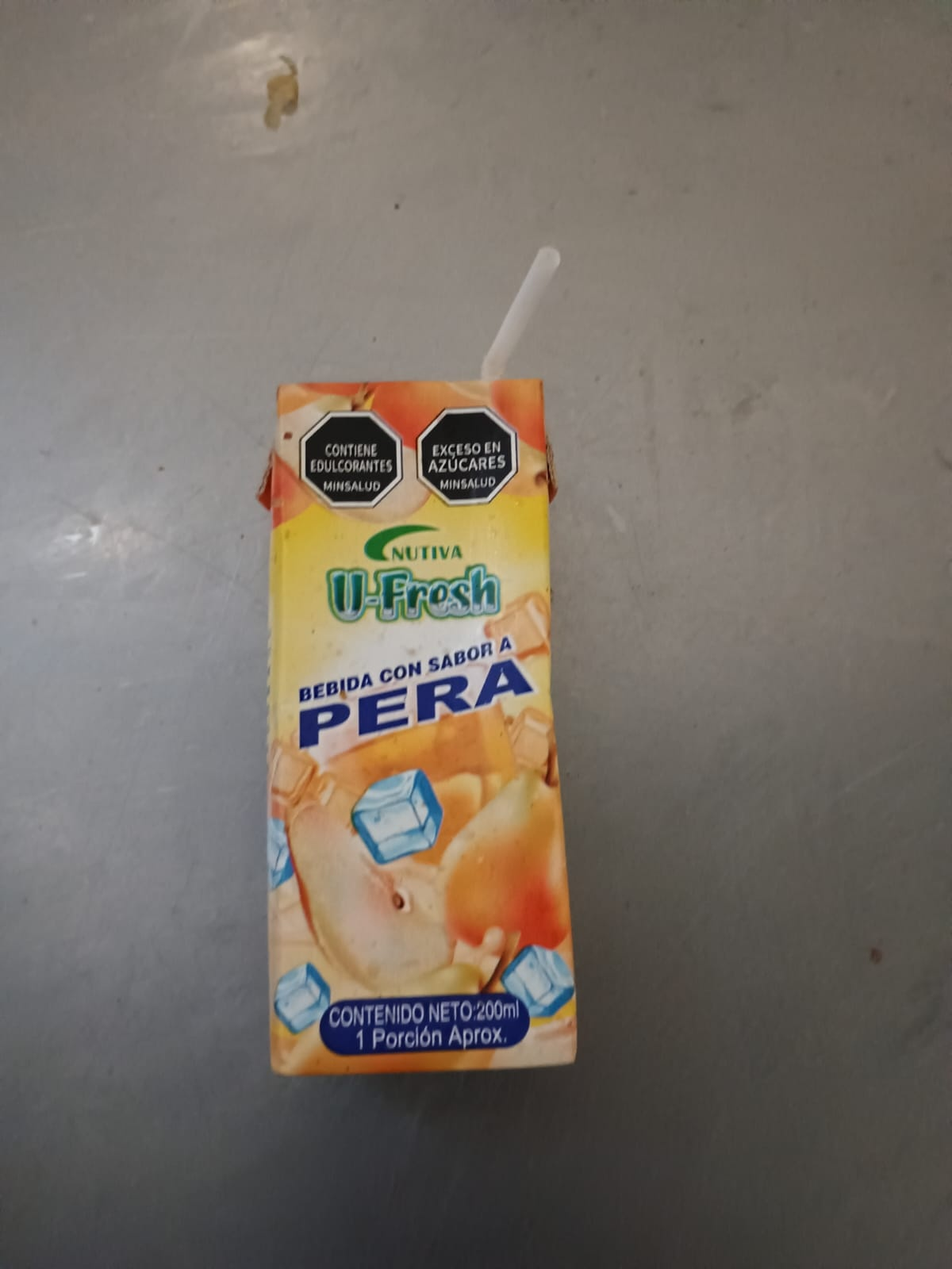Carton: (273, 382, 582, 1076)
